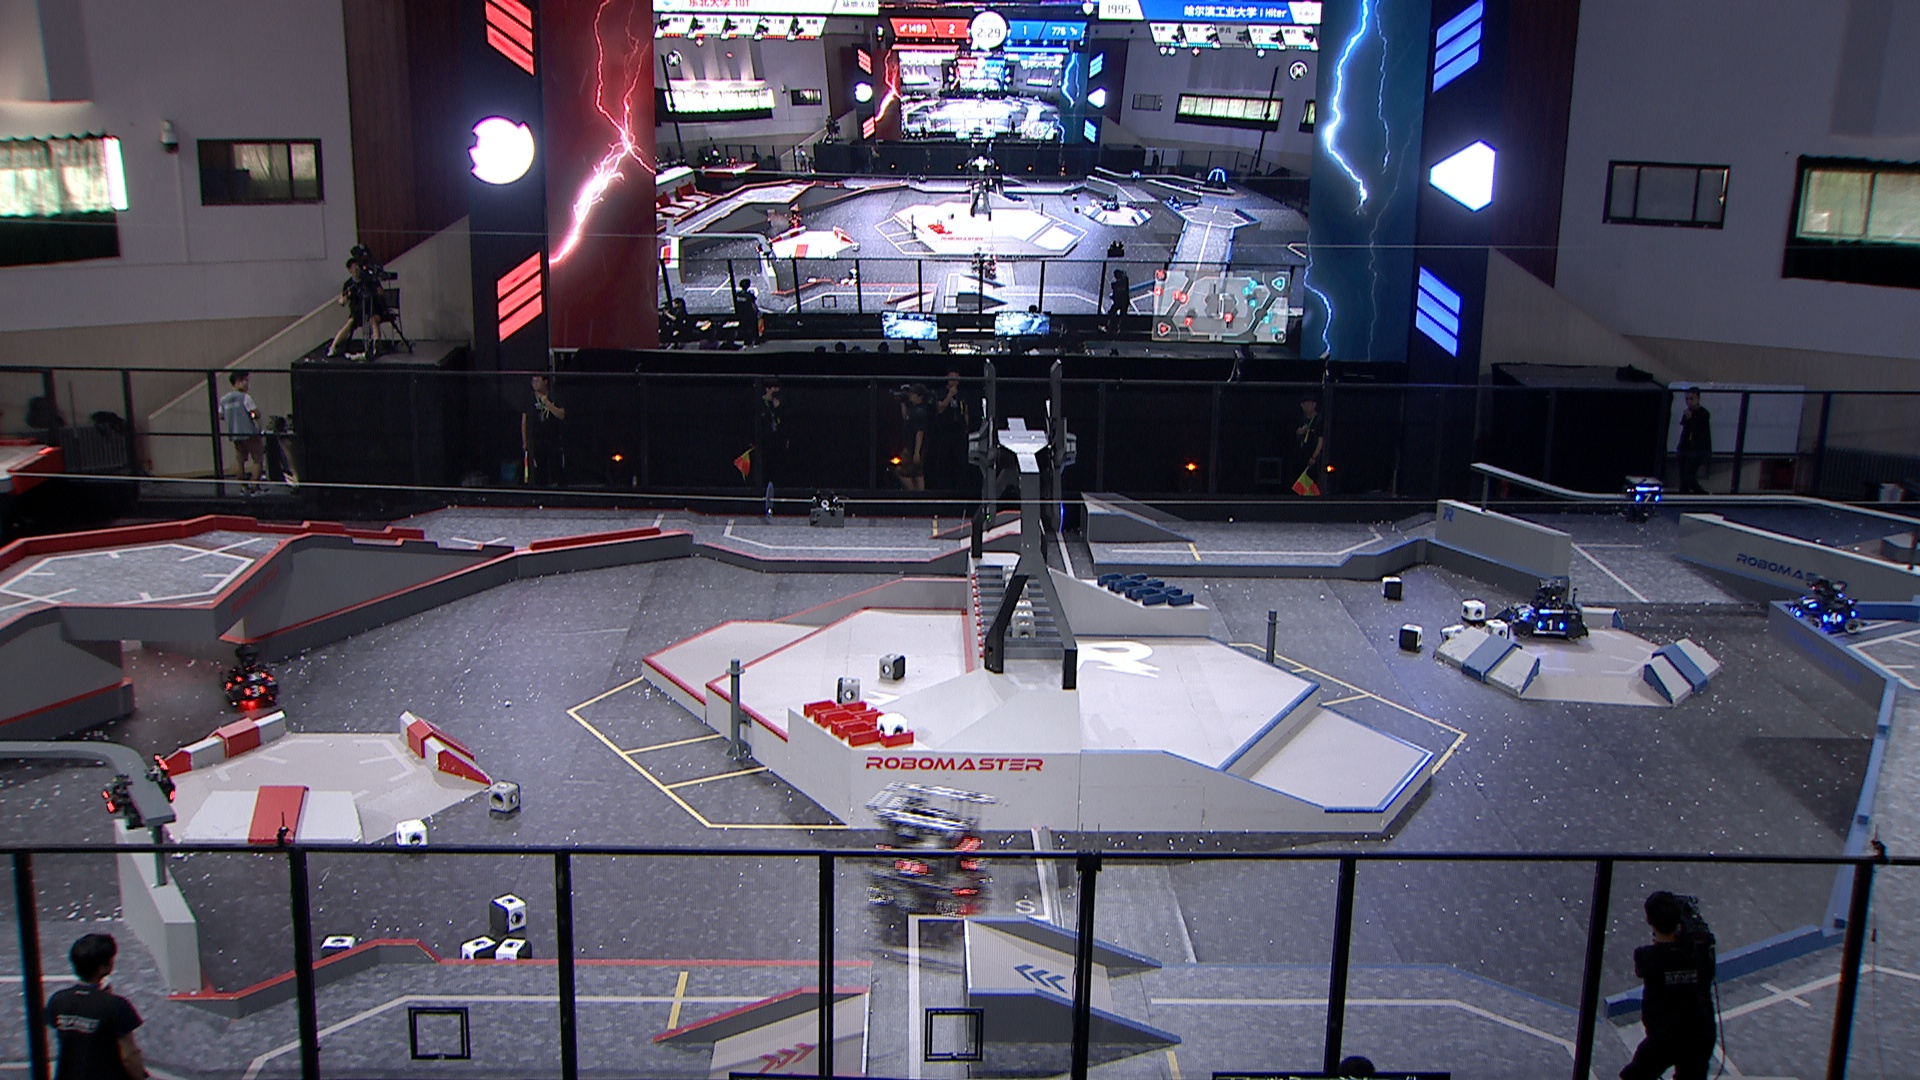armor: (893, 858, 924, 878), (96, 789, 117, 818), (1634, 491, 1662, 505), (1536, 618, 1567, 632), (235, 670, 264, 683), (1822, 611, 1845, 626), (243, 683, 264, 698), (1799, 595, 1818, 609), (1788, 604, 1803, 618)
car: (862, 782, 993, 916), (1509, 576, 1589, 642), (1785, 576, 1865, 636), (215, 644, 278, 707)
ignore: (968, 249, 1001, 280), (1201, 167, 1232, 191), (1101, 193, 1121, 211), (1167, 193, 1185, 211), (785, 210, 803, 225)
watcher: (94, 756, 177, 831), (1617, 476, 1664, 526)
